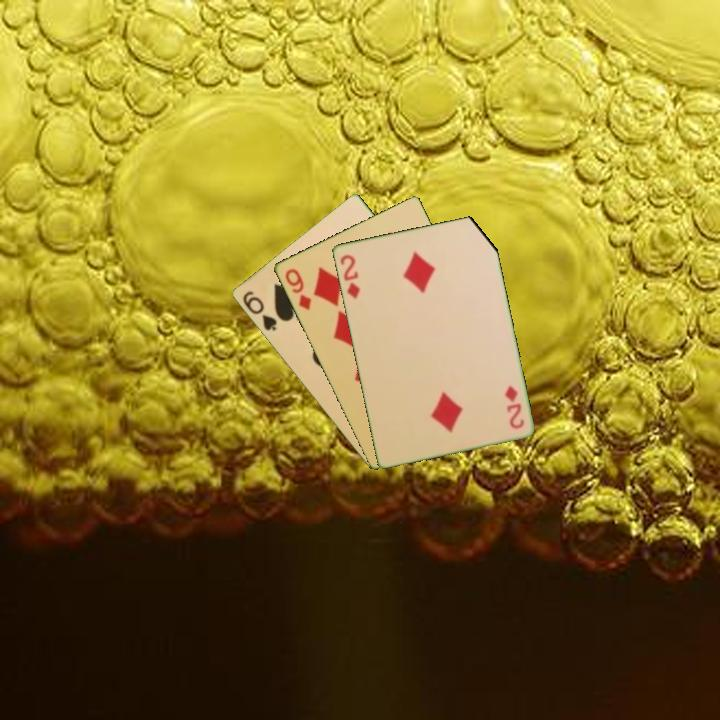2d: (336, 251, 363, 302), (501, 382, 527, 432)
6s: (239, 287, 279, 334)
9d: (281, 265, 314, 313)
